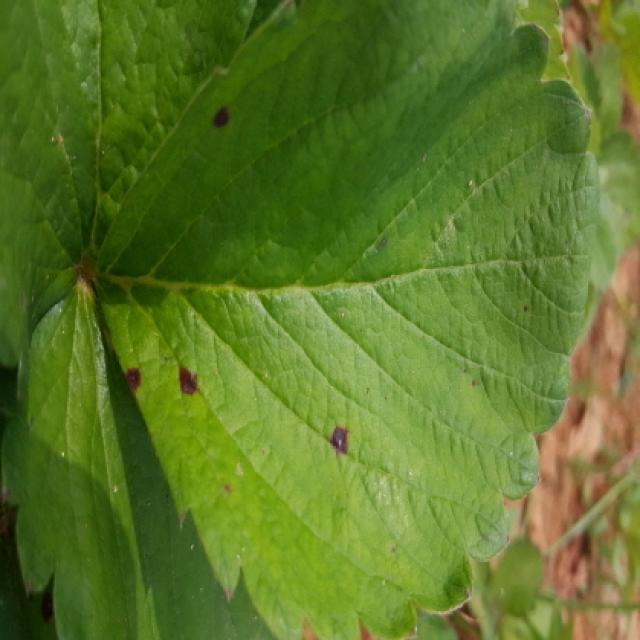Leaf Spot: (87, 0, 600, 638)
